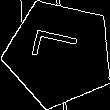L_E: (31, 32, 88, 74)
